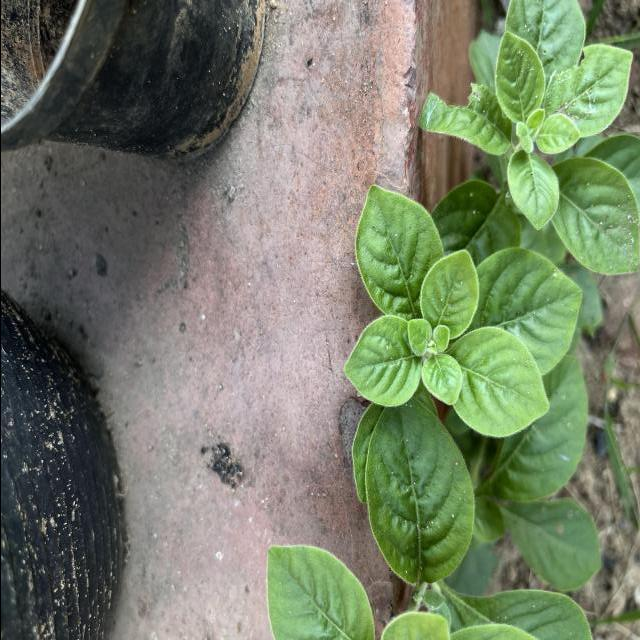Aerva lanata: (362, 398, 476, 592), (471, 244, 583, 378), (438, 322, 550, 440), (352, 180, 446, 320), (339, 312, 422, 411), (416, 246, 482, 342)
